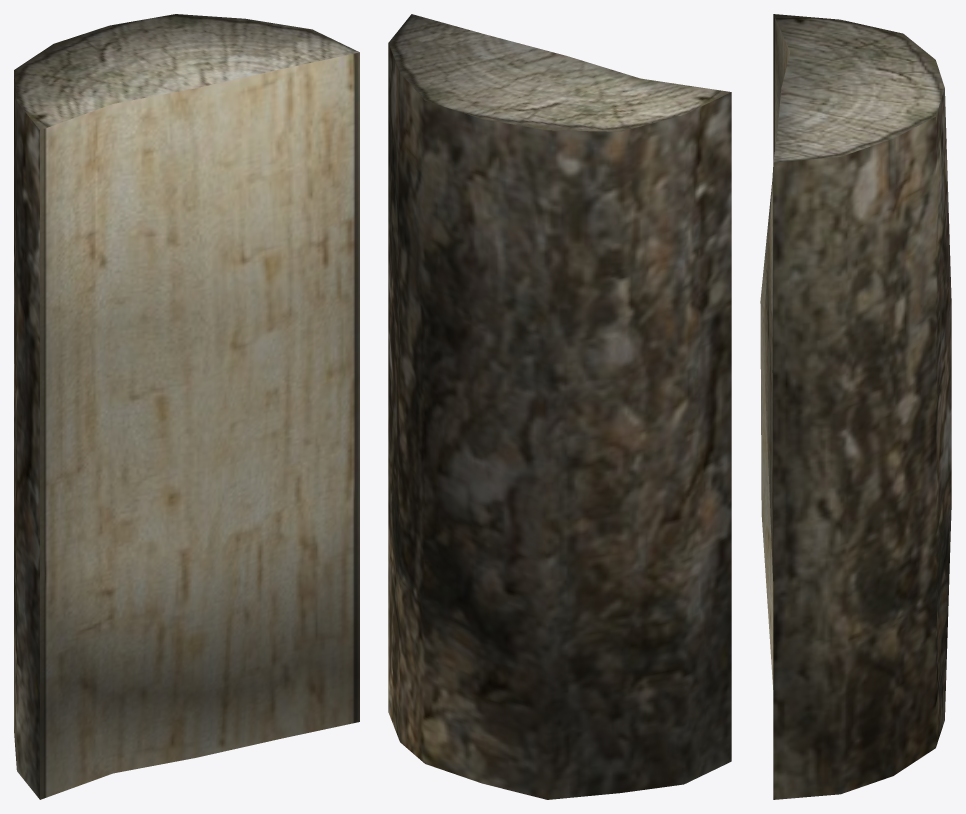
File: Log_Half.dae
The picture shows the model from 3 angles, left to right: view 1: azimuth 30°, elevation 25°; view 2: azimuth 150°, elevation 25°; view 3: azimuth 270°, elevation 25°; orthographic projection. The views are drawn at different scales.
Parts seen in each view (by area): view 1: Log_Half; view 2: Log_Half; view 3: Log_Half.
Part boxes in pixels (x1,y1,x2,y2): Log_Half: [14, 14, 359, 799]; Log_Half: [388, 14, 731, 799]; Log_Half: [760, 14, 951, 799].
Size of the model in its own units: 0.305 by 0.1657 by 0.6101.
